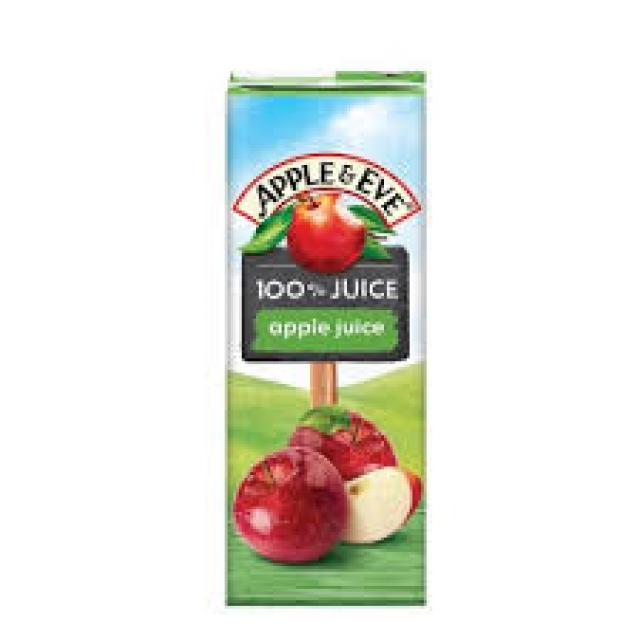non_white_jug: (198, 44, 440, 616)
